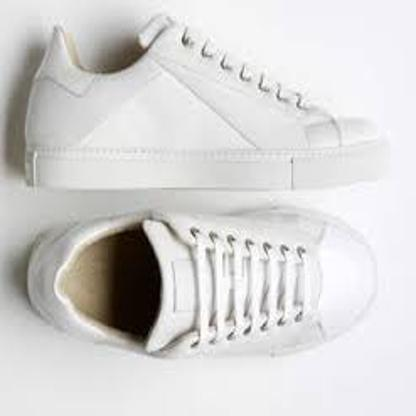not trash: (20, 11, 394, 193), (20, 207, 384, 360)
